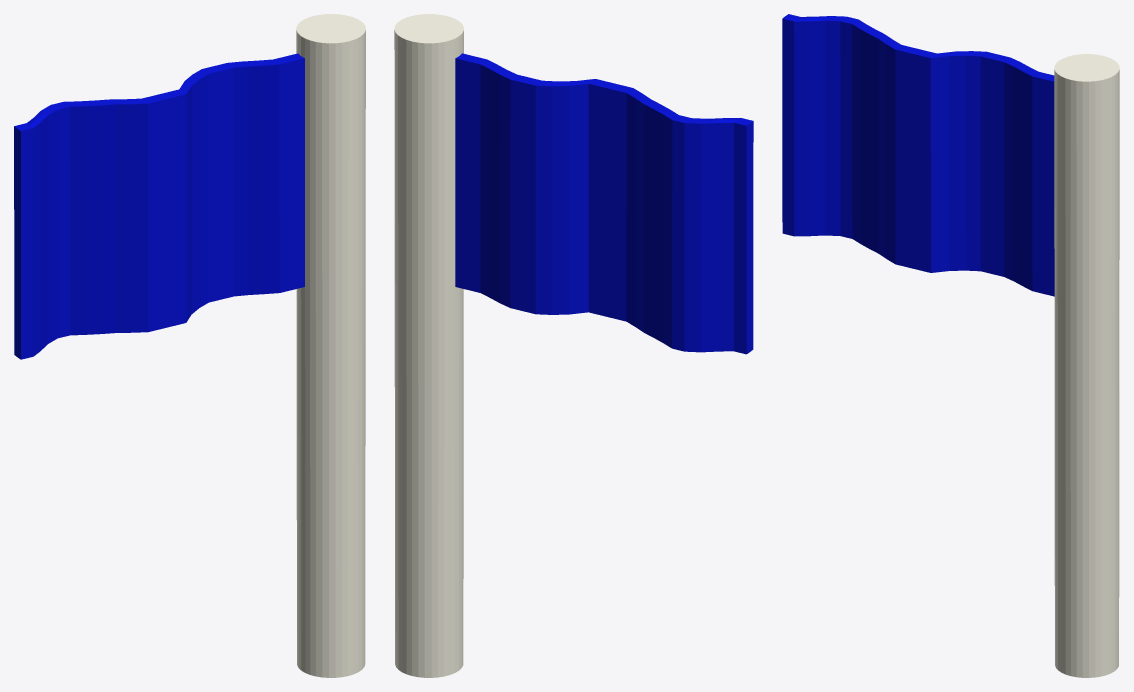
The model's file is Blue Flag.fbx.
3 views of the same model, side by side, from view 1: azimuth 30°, elevation 25°; view 2: azimuth 150°, elevation 25°; view 3: azimuth 330°, elevation 25° (orthographic). The views are drawn at different scales.
Visible parts, largest first — view 1: Blue Flag; view 2: Blue Flag; view 3: Blue Flag.
Boxes of the visible parts, left/top/right/bottom form: Blue Flag: left=14, top=14, right=365, bottom=677; Blue Flag: left=394, top=14, right=753, bottom=677; Blue Flag: left=782, top=14, right=1119, bottom=677.
Size of the model in its own units: 531 by 926 by 92.13.
